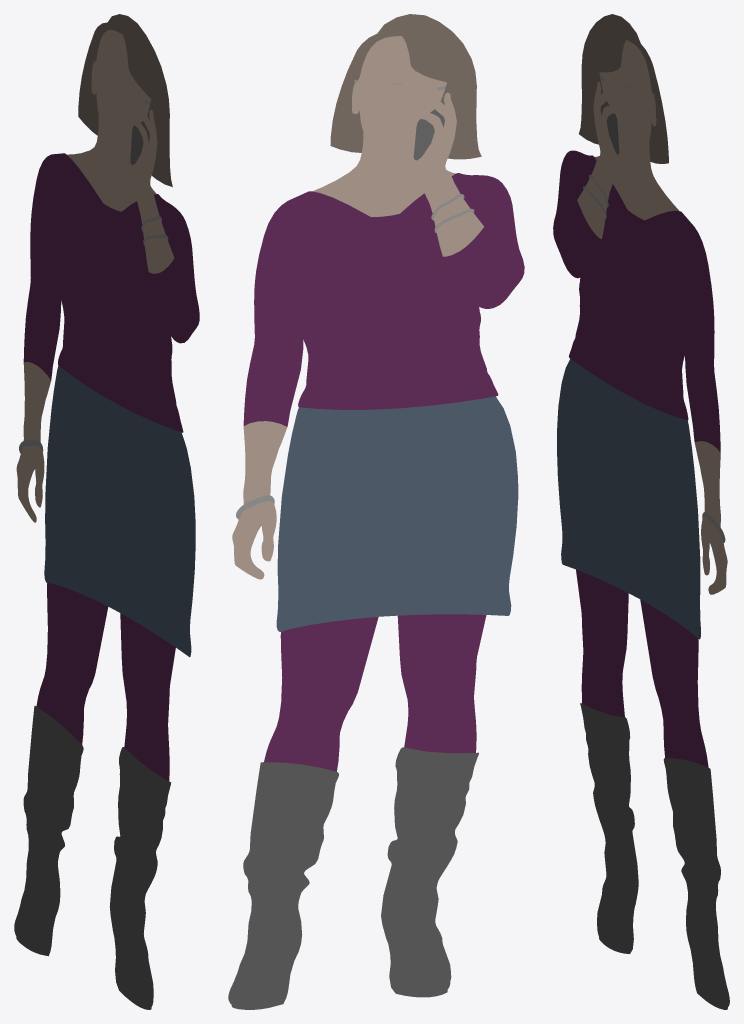
File: prolyte_h30-aa741f98.glb
3 views of the same model, side by side, from view 1: azimuth 90°, elevation 25°; view 2: azimuth 150°, elevation 25°; view 3: azimuth 270°, elevation 25° (orthographic). The views are drawn at different scales.
Parts seen in each view (by area): view 1: Helen; view 2: Helen; view 3: Helen.
Boxes of the visible parts, x1,y1,x2,y2 form: Helen: (14,14,199,1009); Helen: (228,14,524,1009); Helen: (553,14,729,1009).
Bounding box in the file's own units: 0.3407 × 1.58 × 0.2689.
